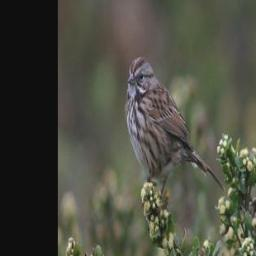Sparrow: (121, 55, 225, 212)
